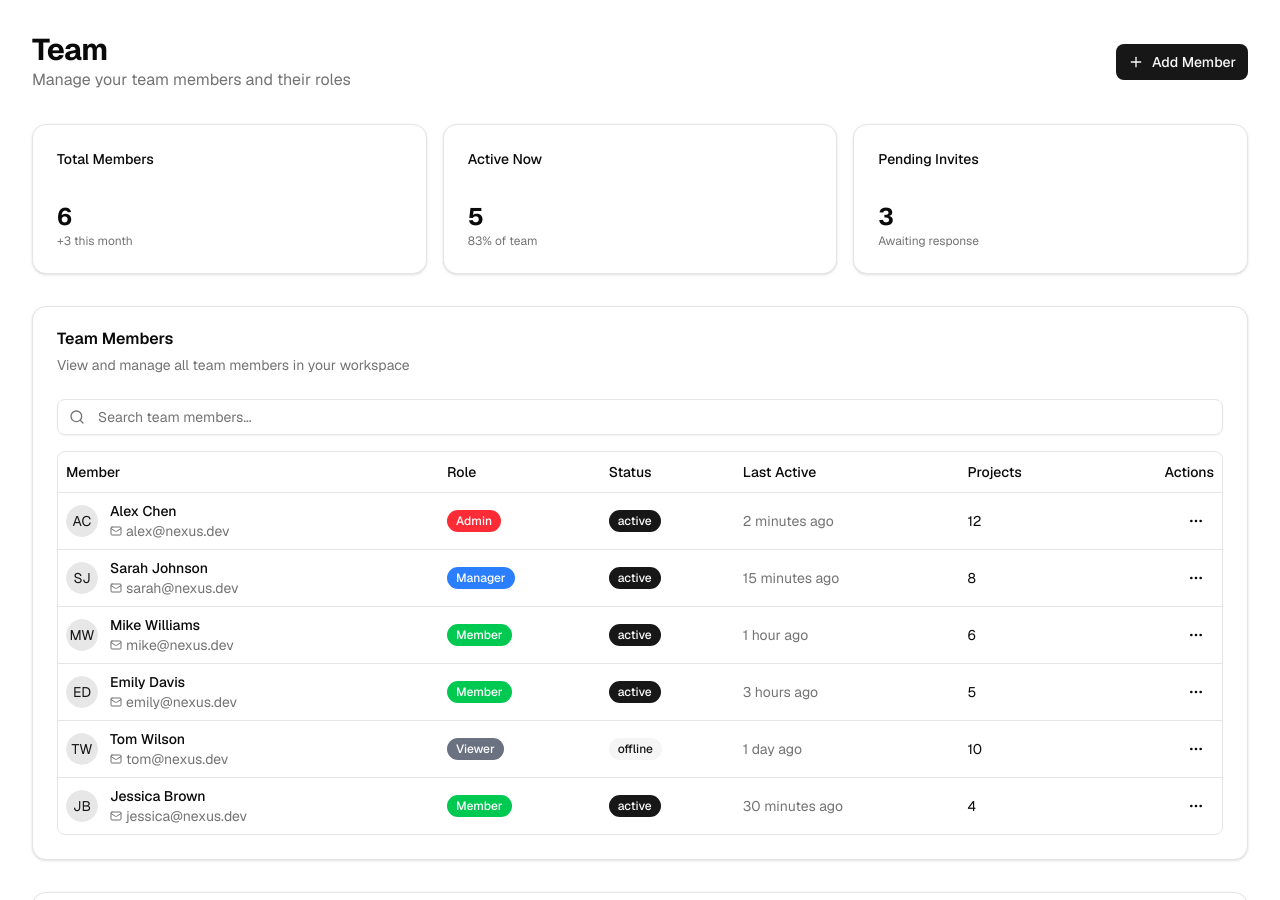
Test case: TeamPage › opens add member dialog when clicking Add Member button
Click the button "Add Member": (1182, 62) [1116,44,1248,80]
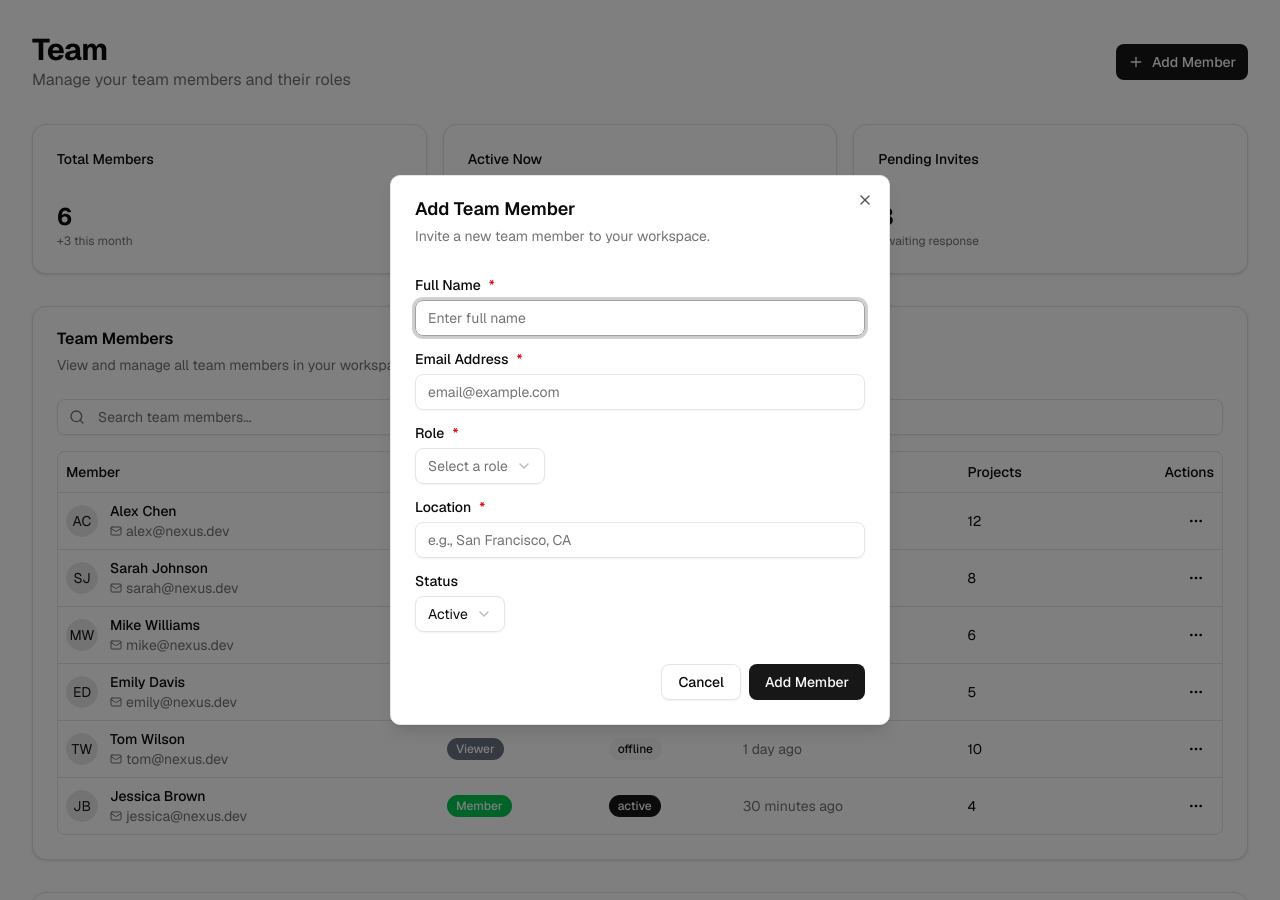
expect the heading "Add Team Member" is shown: met, box [415,197,576,220]
expect the text "Invite a new team member to your workspace." is shown: met, box [415,227,710,245]
